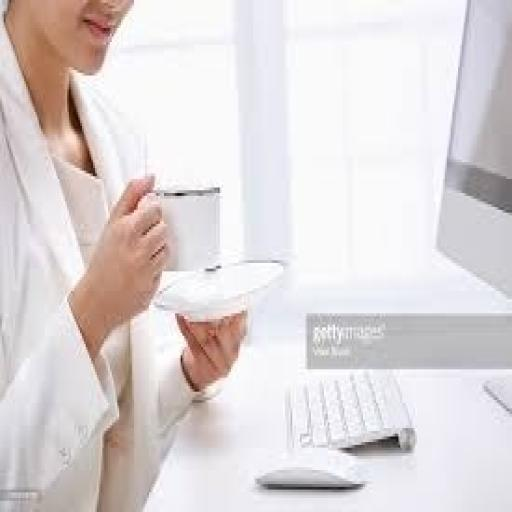drinking: (24, 0, 221, 271)
